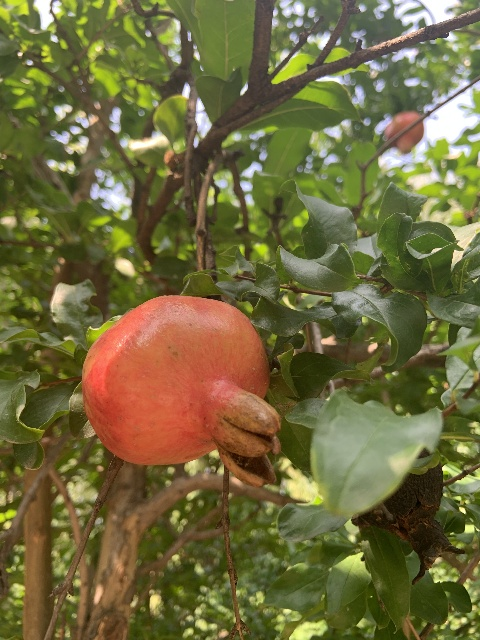ripe: (81, 295, 281, 487), (385, 110, 424, 153)
